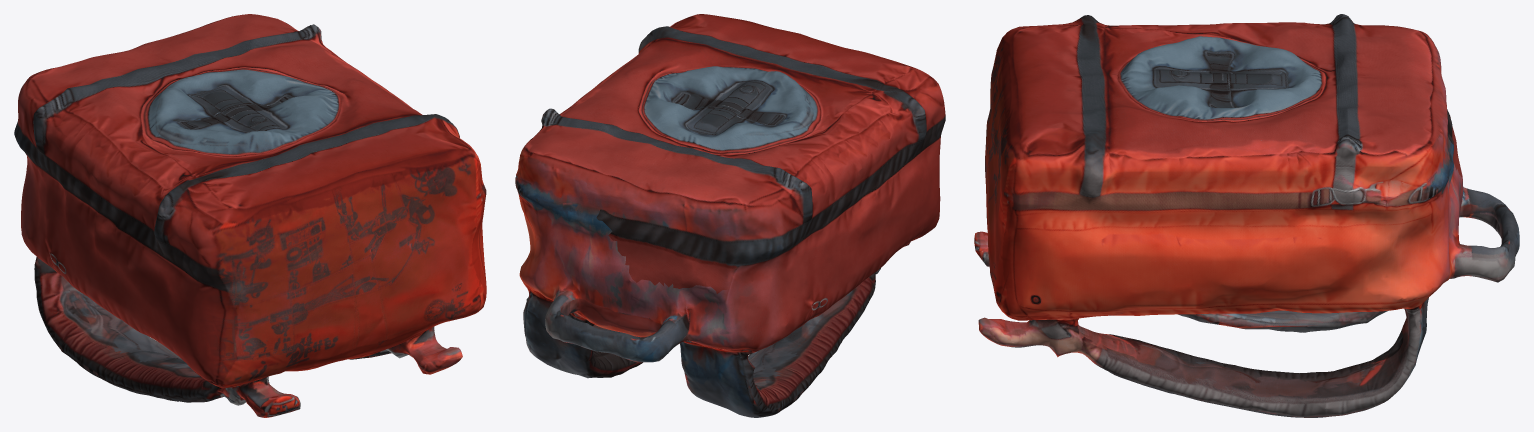
The model's file is Bag.fbx.
3 views of the same model, side by side, from view 1: azimuth 30°, elevation 25°; view 2: azimuth 150°, elevation 25°; view 3: azimuth 270°, elevation 25° (orthographic). The views are drawn at different scales.
Visible parts, largest first — view 1: Mesh_0; view 2: Mesh_0; view 3: Mesh_0.
Boxes of the visible parts, box(x1,y1,x2,y2) form: Mesh_0: box(14, 14, 486, 417); Mesh_0: box(515, 14, 945, 417); Mesh_0: box(974, 14, 1519, 417).
Bounding box in the file's own units: 82.33 × 72.23 × 120.
Materials: 1 (1 with a texture image).
